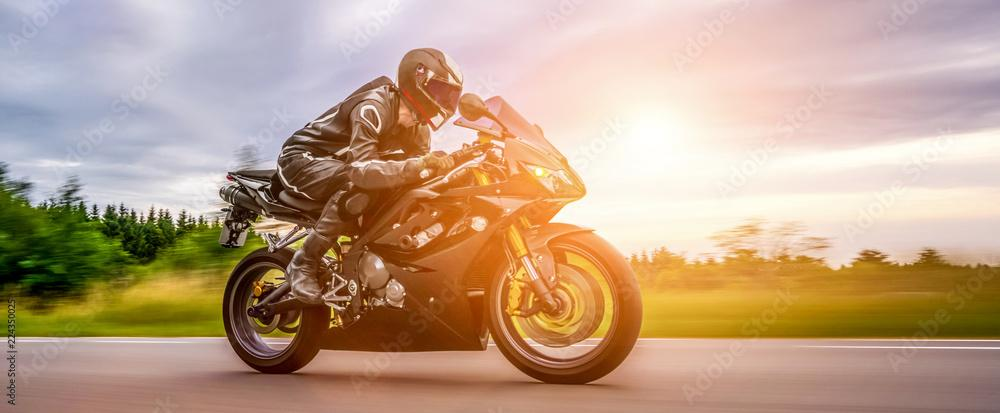helmet: (397, 47, 464, 132)
